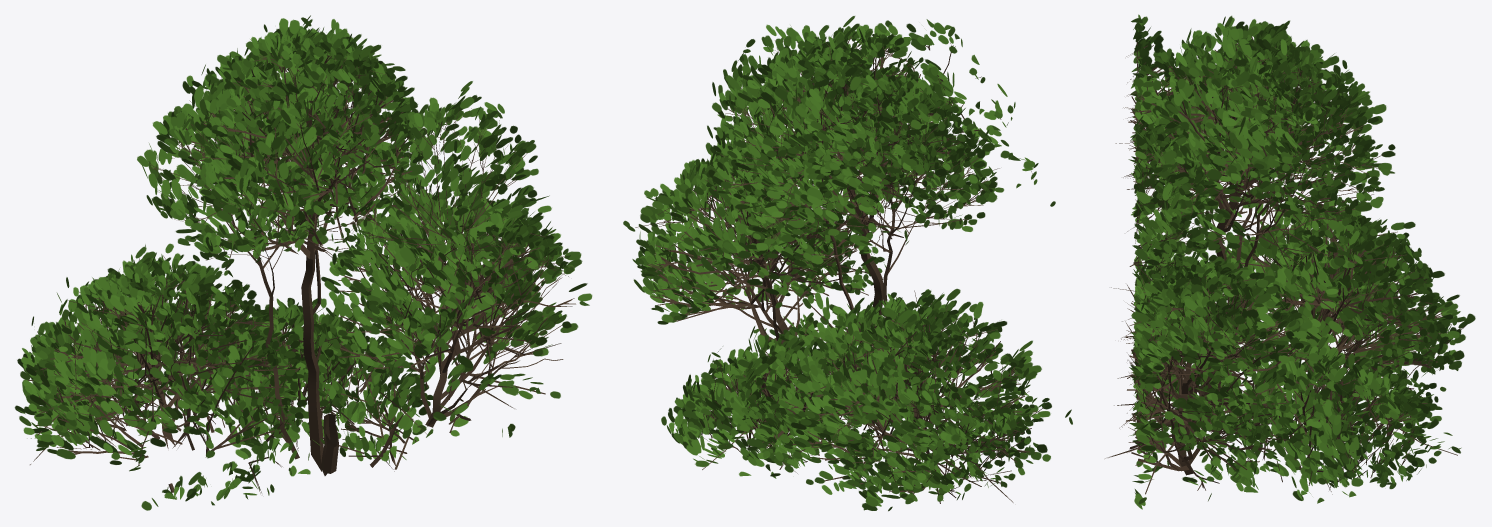
3 views of the same model, side by side, from view 1: azimuth 30°, elevation 25°; view 2: azimuth 150°, elevation 25°; view 3: azimuth 270°, elevation 25° (orthographic). The views are drawn at different scales.
Parts seen in each view (by area): view 1: oak 01.001_trunk_Mat.001_0.223; view 2: oak 01.001_trunk_Mat.001_0.223; view 3: oak 01.001_trunk_Mat.001_0.223.
Boxes of the visible parts, x1,y1,x2,y2 form: oak 01.001_trunk_Mat.001_0.223: [14, 15, 592, 510]; oak 01.001_trunk_Mat.001_0.223: [623, 16, 1072, 511]; oak 01.001_trunk_Mat.001_0.223: [1105, 14, 1475, 509].
Size of the model in its own units: 4.55 by 3.81 by 3.03.
Materials: 2 (1 with a texture image).
